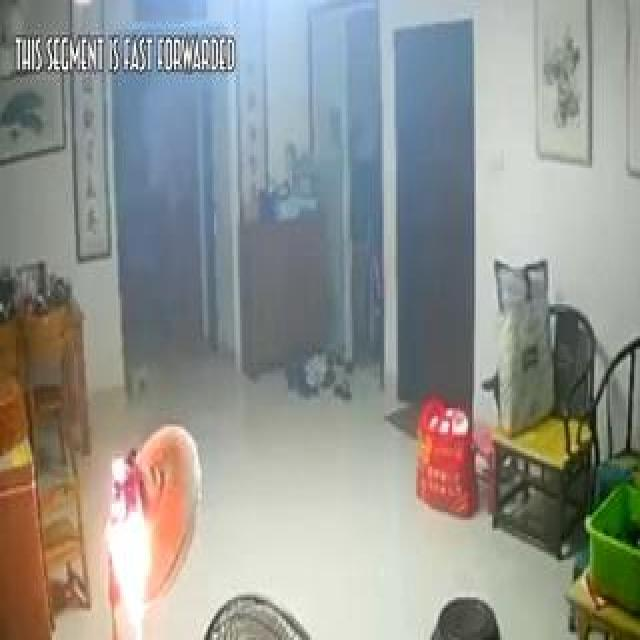Fire: (97, 378, 205, 626)
